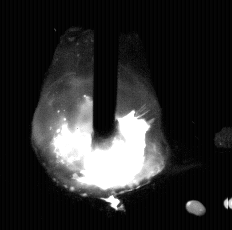arame: (93, 0, 118, 150)
poca: (30, 0, 168, 230)
